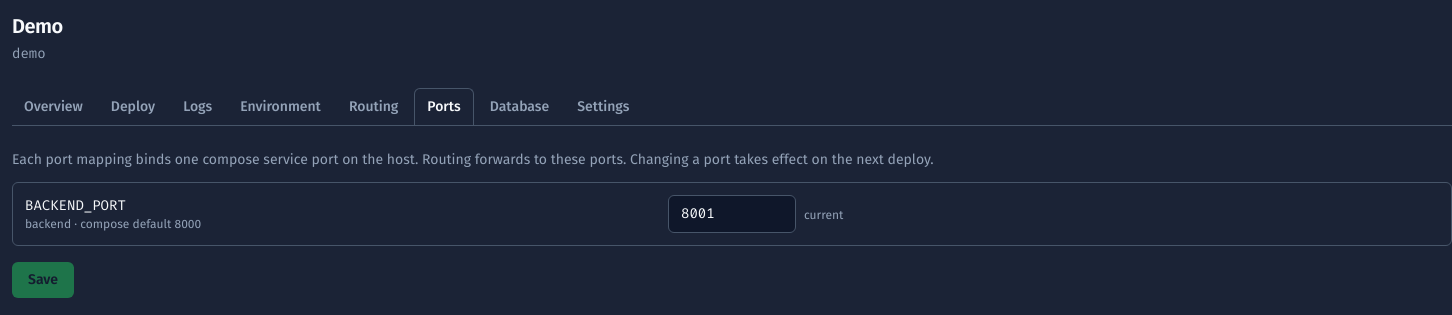
Test: ProjectPage ports tab › saves edited ports
Replace the text in the field named "BACKEND_PORT host port" with "8002" at (732, 214), box [668, 195, 796, 233]
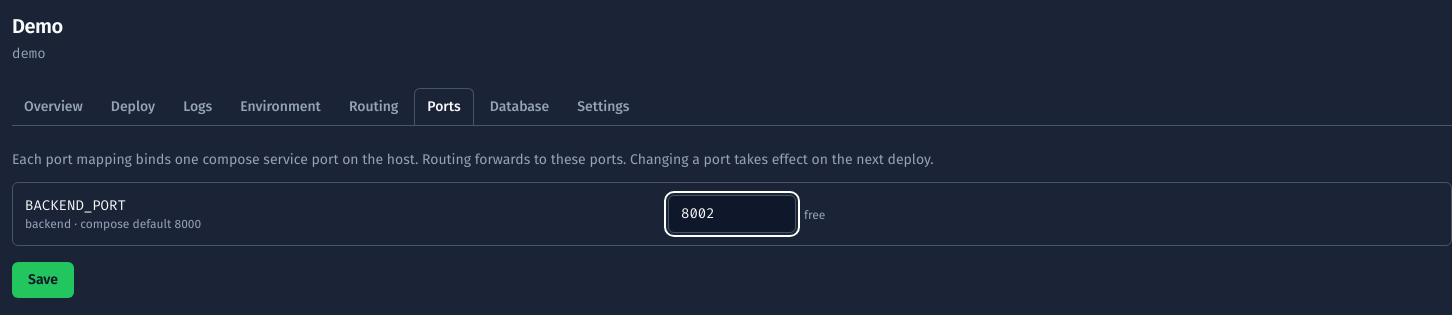
Click the button "Save" at (43, 280), box [12, 262, 74, 298]
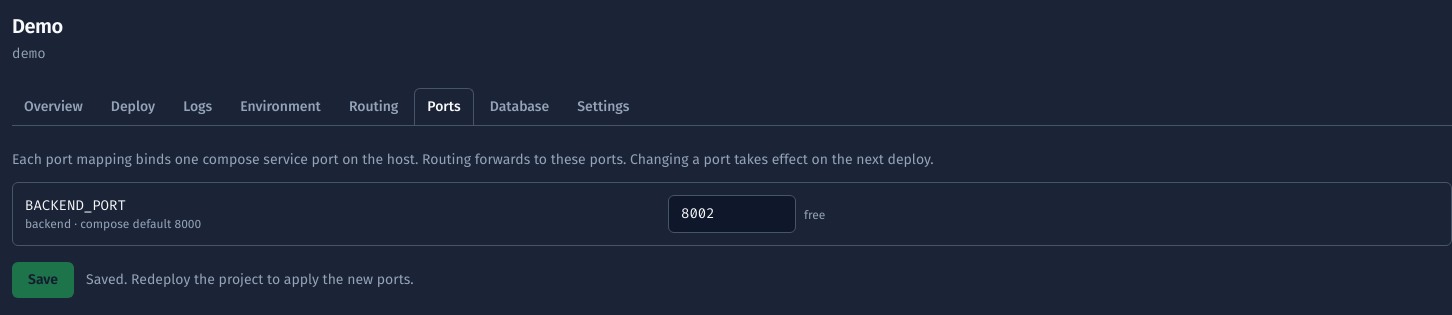
Result: the text "Saved. Redeploy the project to apply the new ports." is shown at [86, 270, 414, 290]
